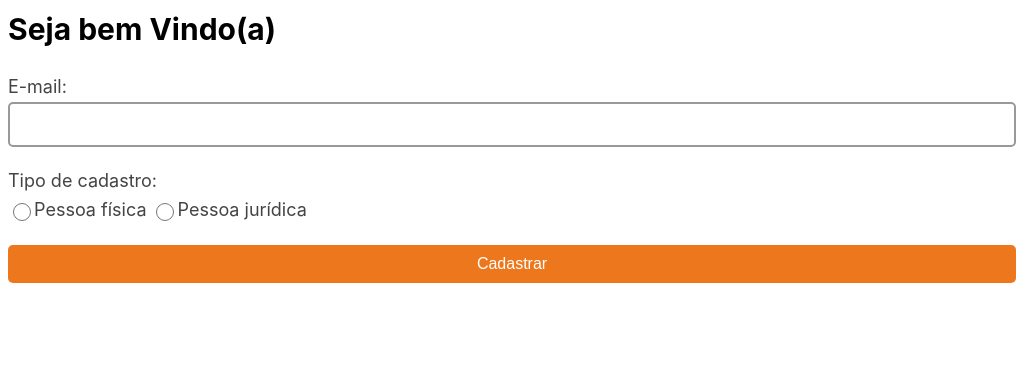
Test: InitialForm › should show an email error required
Type "h.suel17@hotmai" into the field labelled "E-mail:". click: (512, 124)
box: [8,102,1016,147]
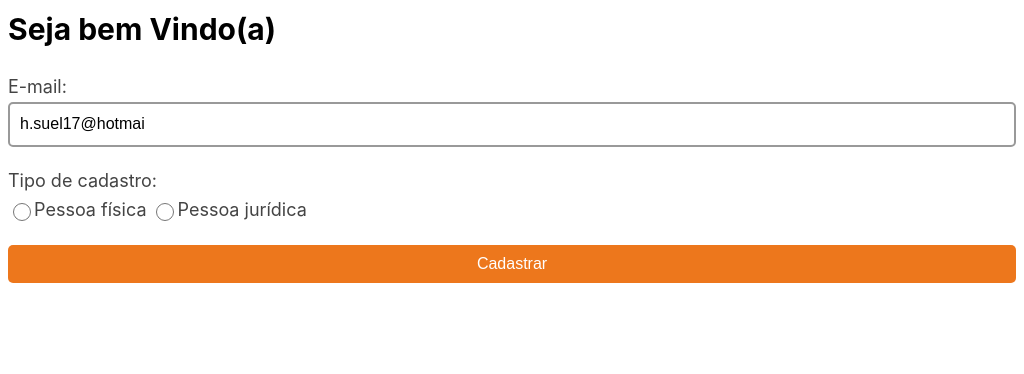
Click the button "Cadastrar". click: (512, 264)
box: [8,245,1016,283]
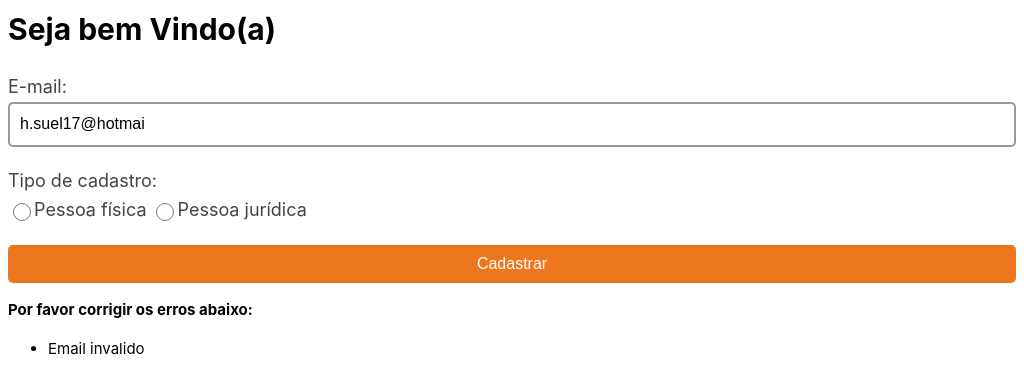
Expected: the element showing "Por favor corrigir os erros abaixo: Email invalido" is shown, [8,300,253,358]
